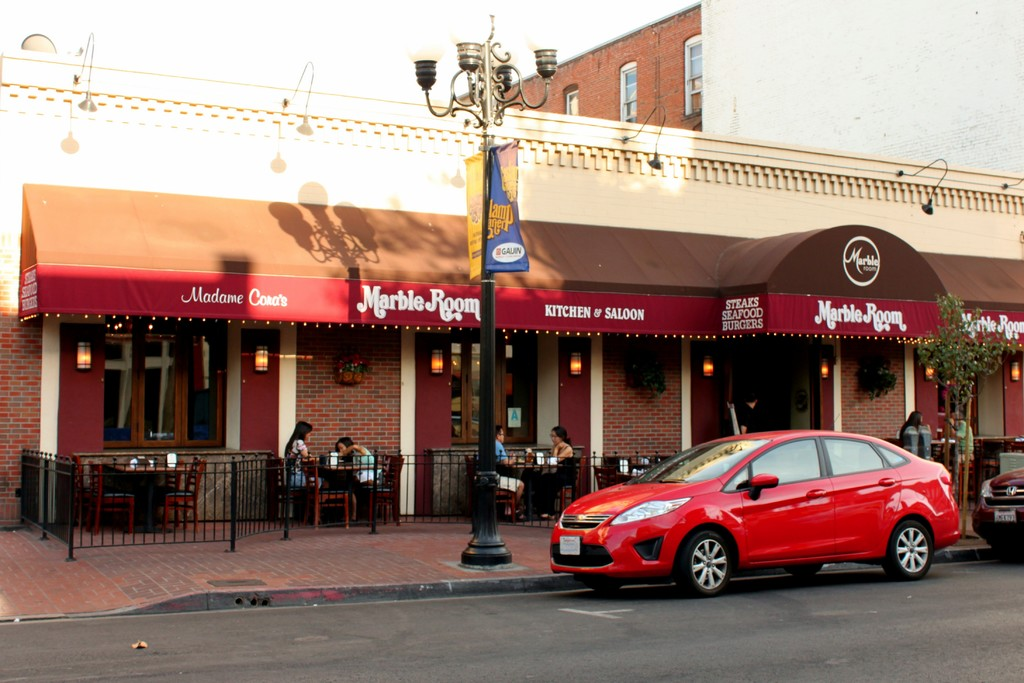Car: (552, 423, 960, 598), (970, 464, 1023, 556)
